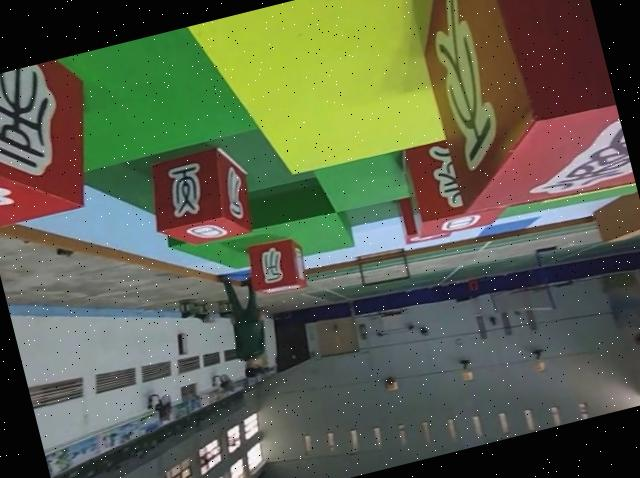R2 Fake: (401, 0, 636, 228), (0, 53, 115, 234), (138, 139, 262, 257), (239, 230, 313, 303)
